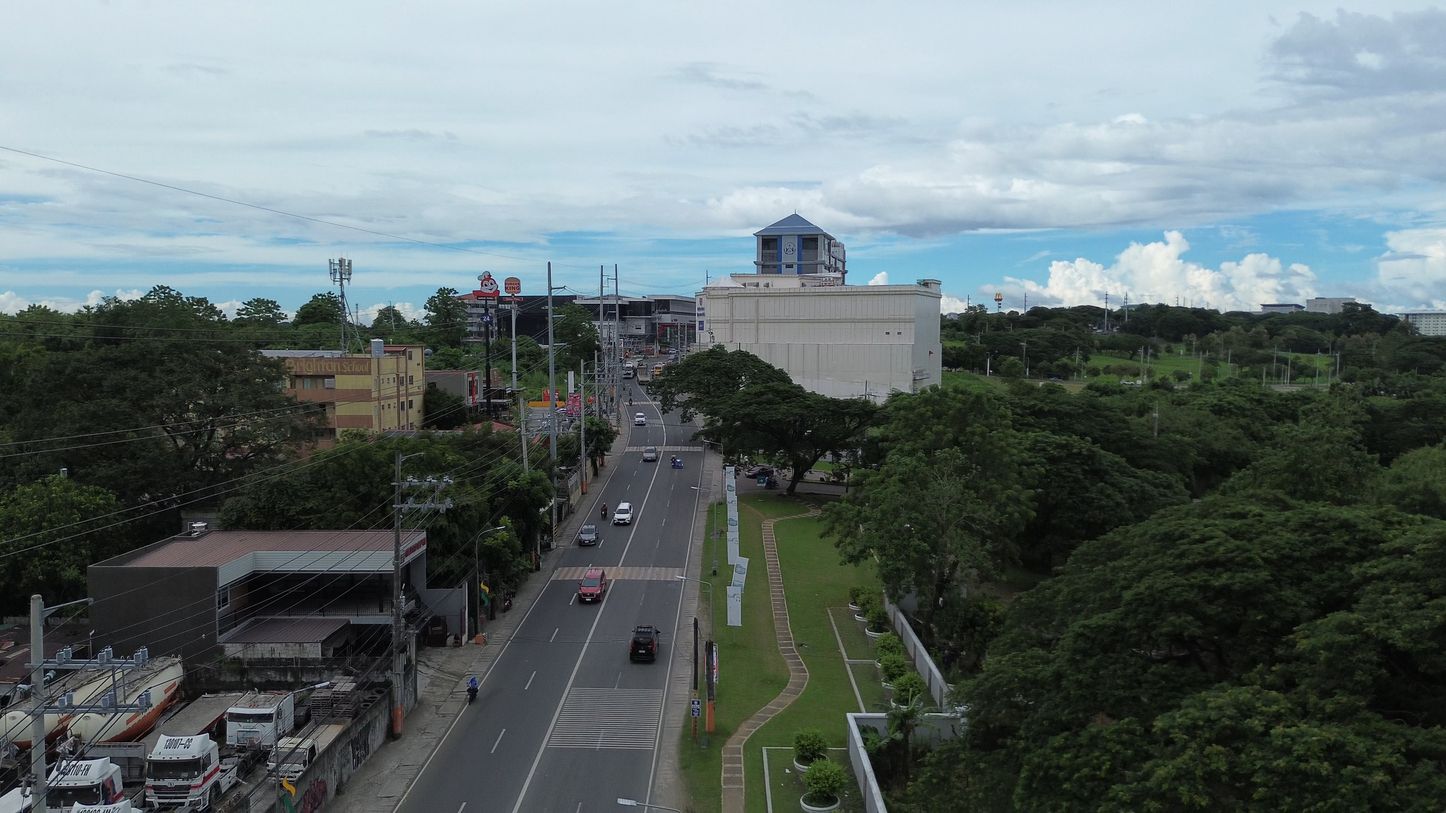car: (612, 502, 633, 525), (642, 446, 658, 461)
motorcycle: (502, 590, 515, 612)
vehicle: (145, 734, 239, 810), (46, 758, 124, 810), (226, 692, 294, 748), (267, 737, 317, 782), (629, 625, 658, 661), (578, 568, 607, 602), (577, 524, 599, 545), (743, 465, 774, 478), (633, 413, 647, 426), (622, 364, 635, 378), (651, 364, 664, 376), (671, 457, 683, 469), (1119, 379, 1136, 386)
